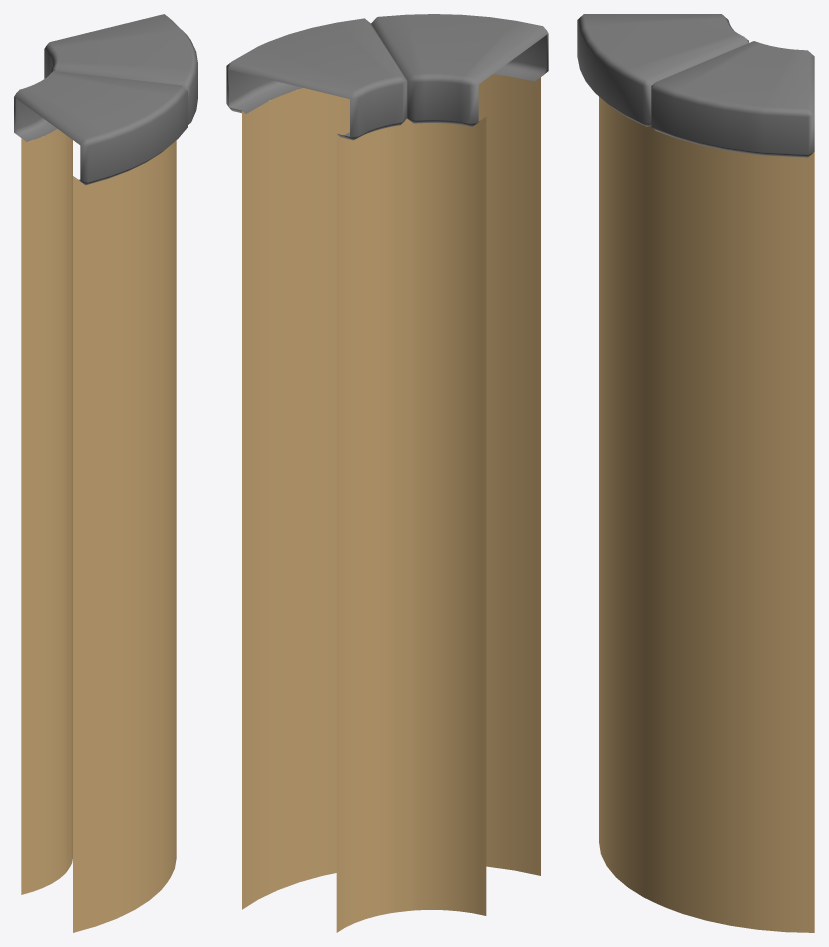
Rendered from SM_WallCurve_8_LOD0.fbx.
3 views of the same model, side by side, from view 1: azimuth 30°, elevation 25°; view 2: azimuth 150°, elevation 25°; view 3: azimuth 270°, elevation 25° (orthographic). The views are drawn at different scales.
Visible parts, largest first — view 1: SM_WallCurve_8_LOD0; view 2: SM_WallCurve_8_LOD0; view 3: SM_WallCurve_8_LOD0.
Boxes of the visible parts, x1,y1,x2,y2 form: SM_WallCurve_8_LOD0: (14, 14, 197, 932); SM_WallCurve_8_LOD0: (226, 14, 548, 932); SM_WallCurve_8_LOD0: (577, 14, 814, 932).
Bounding box in the file's own units: 2.2 × 8.5 × 2.2.
